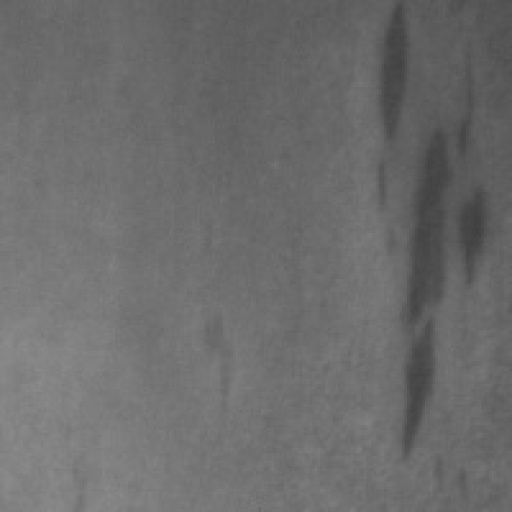inclusion: (362, 1, 500, 465), (371, 7, 418, 152), (195, 304, 245, 409)
